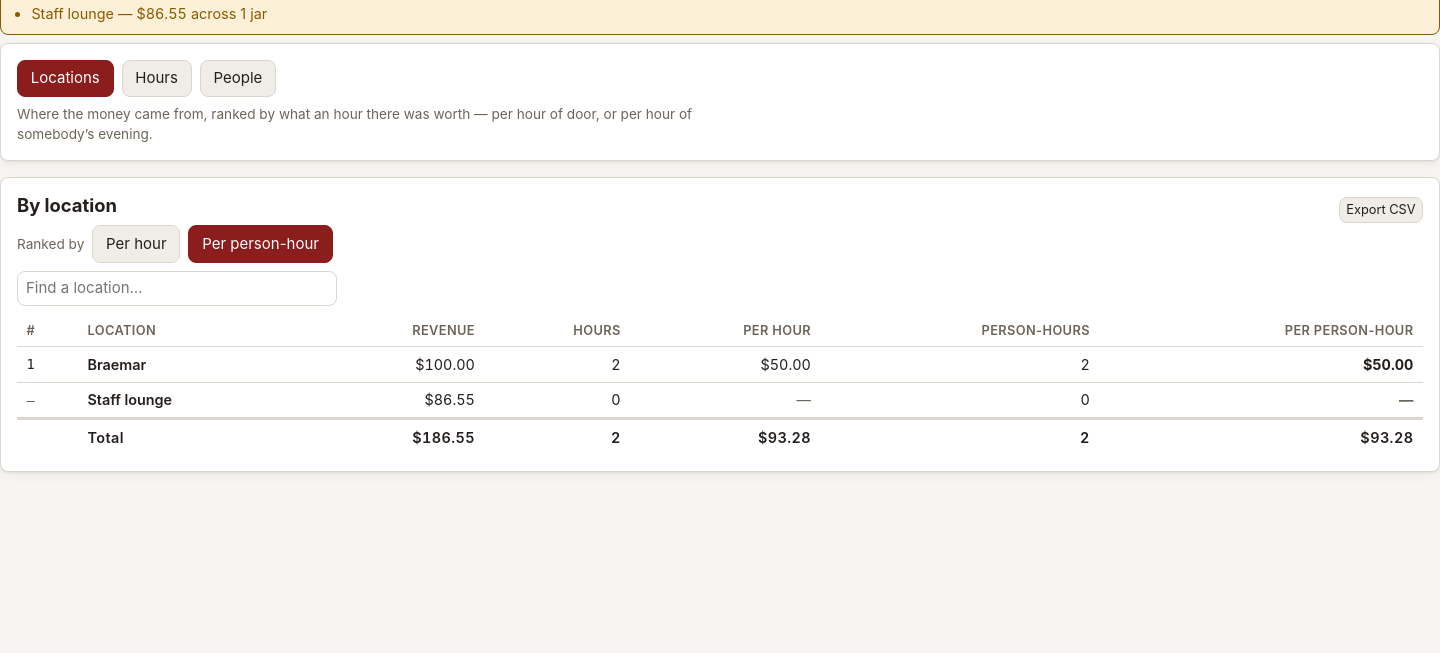
the by-hour breakdown › breaks the money down by the hour it came in
Step 1. Click the tab "Hours" → click(157, 79), box x1=122 y1=60 x2=192 y2=97
(page scrolled)
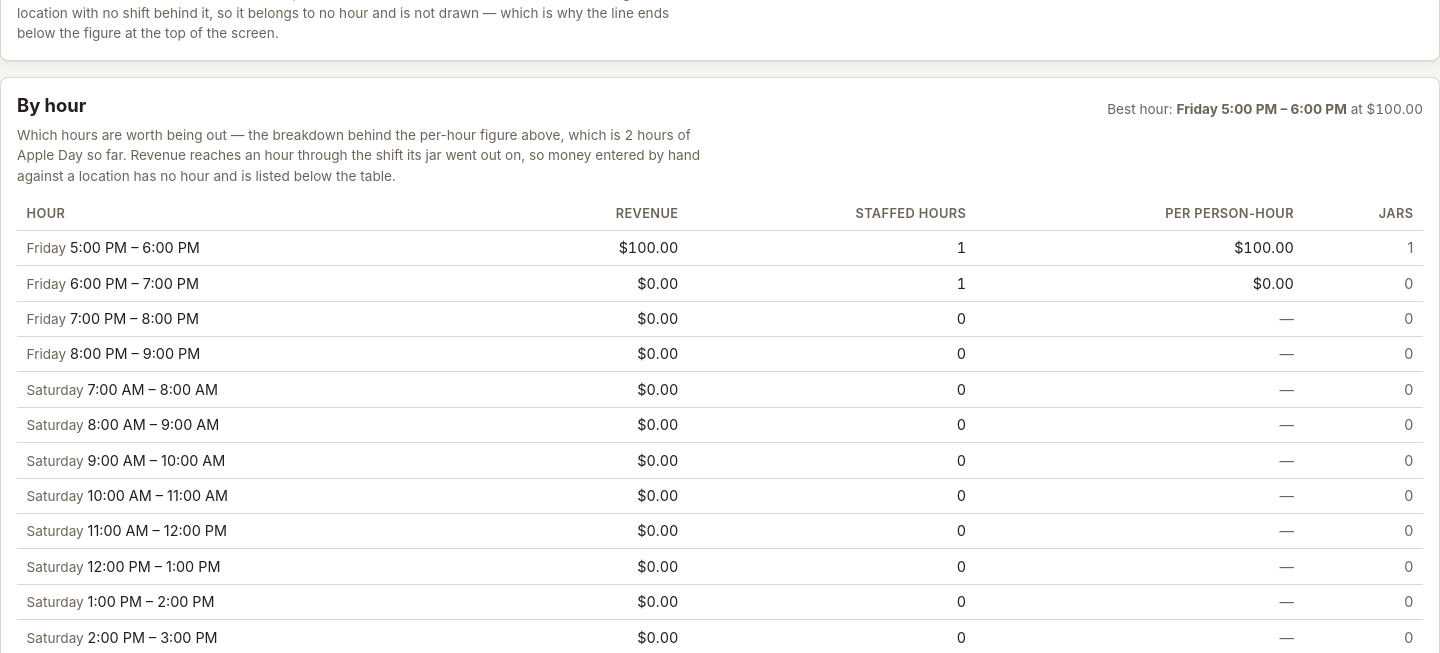
Now the row "Friday 5:00 PM – 6:00 PM $100.00 1 $100.00 1" is shown, box x1=17 y1=231 x2=1423 y2=266
